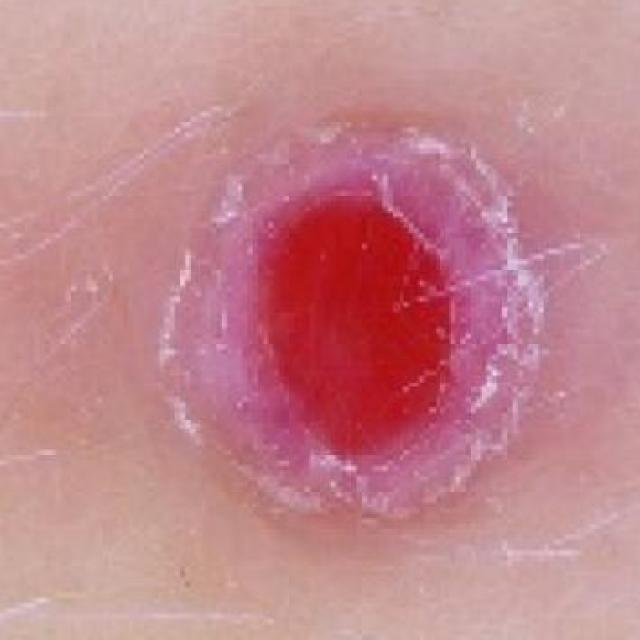VASC: (144, 52, 629, 640)
